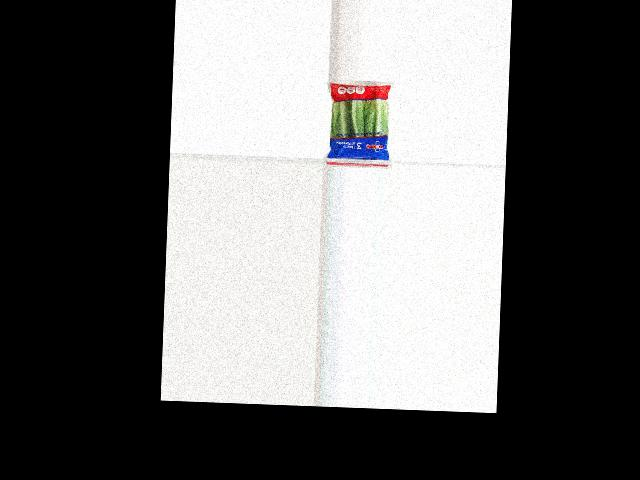lettuce: (326, 80, 395, 164)
